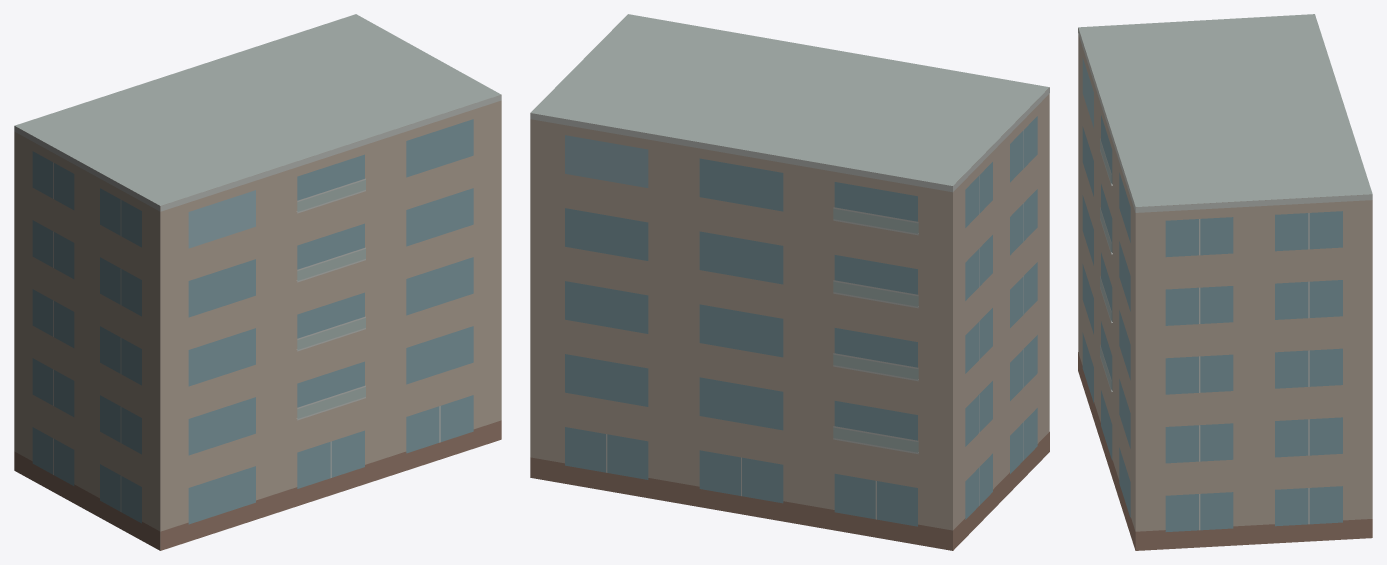
File: survey-upis-32610778.glb
3 renders of one model, left to right at view 1: azimuth 30°, elevation 25°; view 2: azimuth 150°, elevation 25°; view 3: azimuth 270°, elevation 25°, orthographic. The views are drawn at different scales.
Parts seen in each view (by area): view 1: survey-upis-32610778.tmp; view 2: survey-upis-32610778.tmp; view 3: survey-upis-32610778.tmp.
Part boxes in pixels (x1=…): survey-upis-32610778.tmp: x1=14, y1=14, x2=501, y2=550; survey-upis-32610778.tmp: x1=530, y1=14, x2=1049, y2=550; survey-upis-32610778.tmp: x1=1078, y1=14, x2=1372, y2=550.
Bounding box in the file's own units: 17.36 × 14.4 × 11.19.
